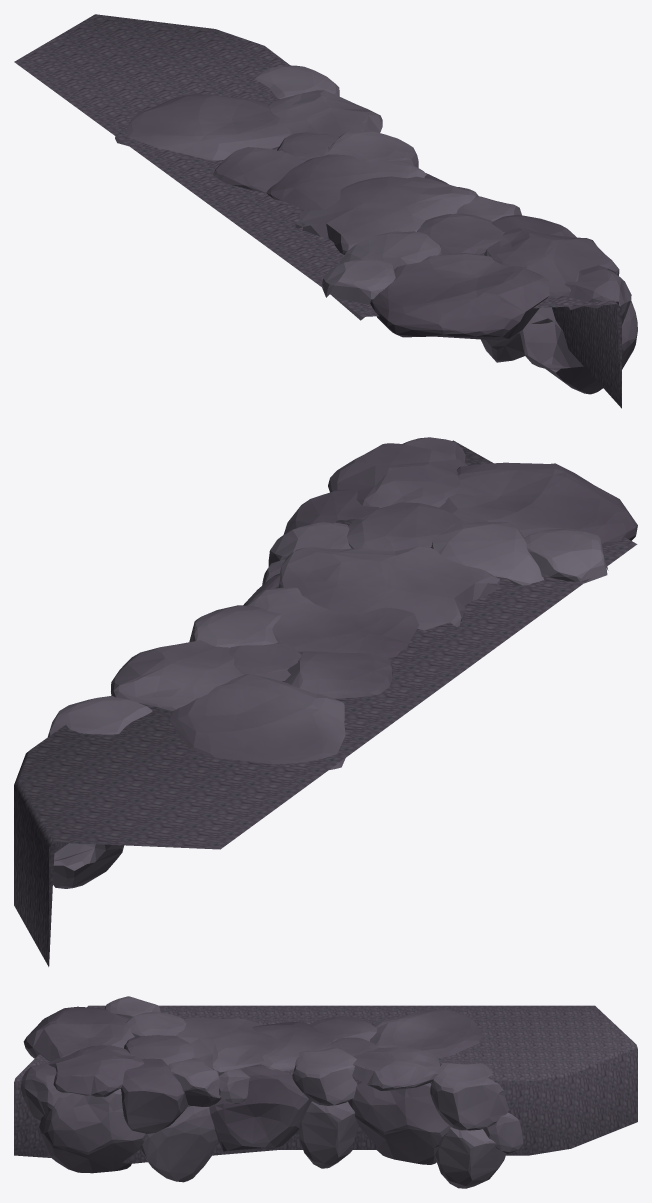
File: ProloguePath1_LedgesRocks_RIGHT.fbx
3 renders of one model, top to bottom at view 1: azimuth 30°, elevation 25°; view 2: azimuth 150°, elevation 25°; view 3: azimuth 270°, elevation 25°, orthographic. The views are drawn at different scales.
Visible parts, largest first — view 1: Ledge_Right; view 2: Ledge_Right; view 3: Ledge_Right.
Boxes of the visible parts, bbox=[...] form: Ledge_Right: bbox=[14, 14, 637, 408]; Ledge_Right: bbox=[14, 437, 637, 966]; Ledge_Right: bbox=[14, 996, 637, 1188].
Bounding box in the file's own units: 1245 × 783 × 3569.
